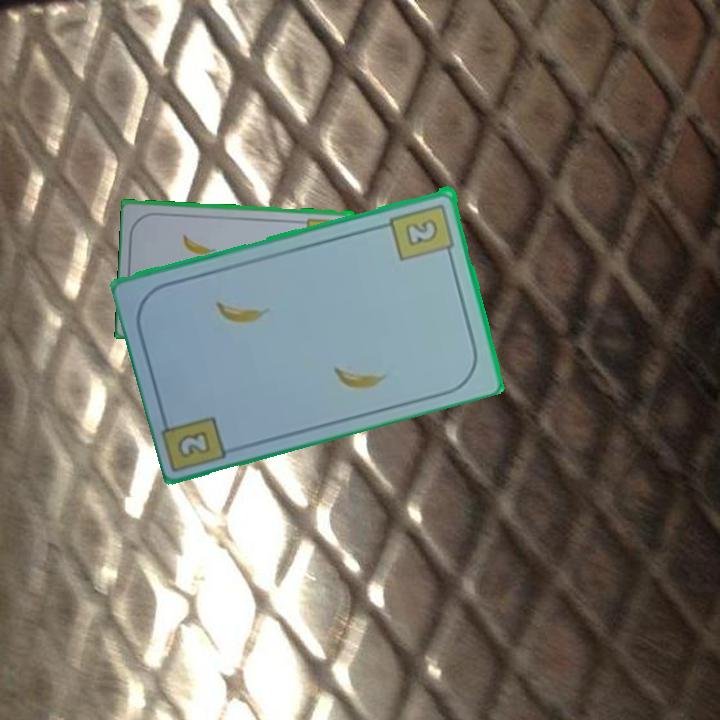2b: (387, 199, 458, 263), (174, 426, 214, 457)
